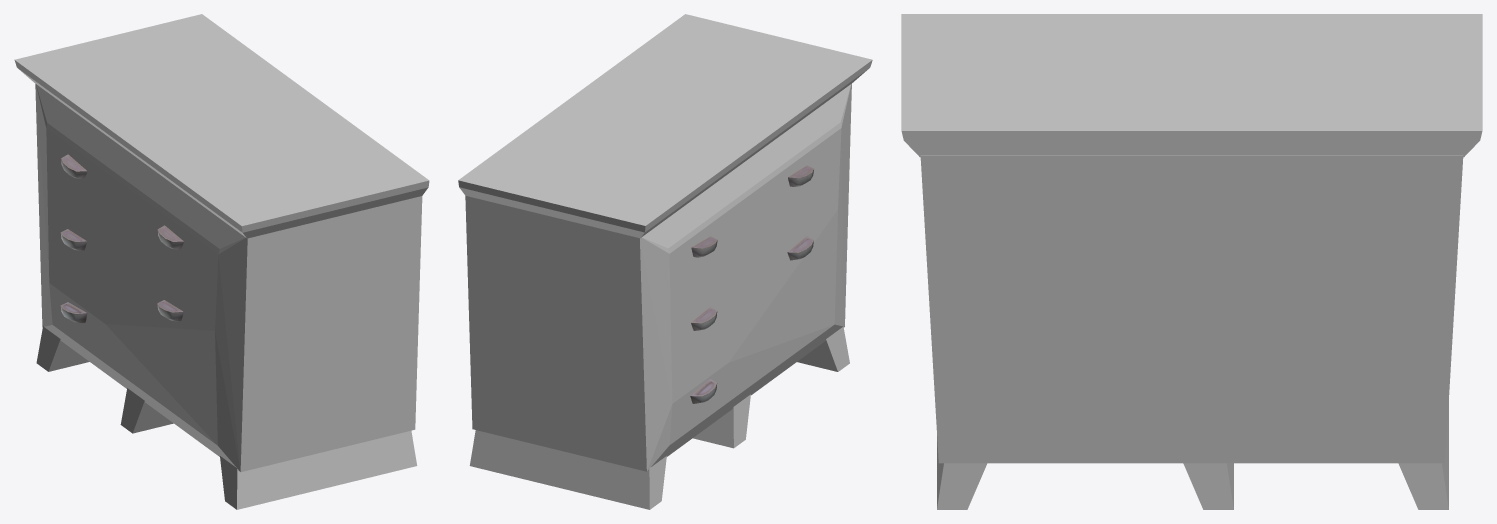
The model's file is SM_WritingDesk01_1.fbx.
3 renders of one model, left to right at view 1: azimuth 30°, elevation 25°; view 2: azimuth 150°, elevation 25°; view 3: azimuth 270°, elevation 25°, orthographic. The views are drawn at different scales.
Visible parts, largest first — view 1: SM_WritingDesk01_1_ConvexHulls, SM_WritingDesk01_1; view 2: SM_WritingDesk01_1_ConvexHulls, SM_WritingDesk01_1; view 3: SM_WritingDesk01_1_ConvexHulls.
Boxes of the visible parts, x1,y1,x2,y2 form: SM_WritingDesk01_1_ConvexHulls: [14, 14, 429, 509]; SM_WritingDesk01_1: [60, 154, 183, 323]; SM_WritingDesk01_1_ConvexHulls: [458, 14, 872, 509]; SM_WritingDesk01_1: [690, 165, 813, 403]; SM_WritingDesk01_1_ConvexHulls: [901, 14, 1482, 509].
Bounding box in the file's own units: 63.96 × 128 × 91.76.
Materials: 2 (1 with a texture image).
